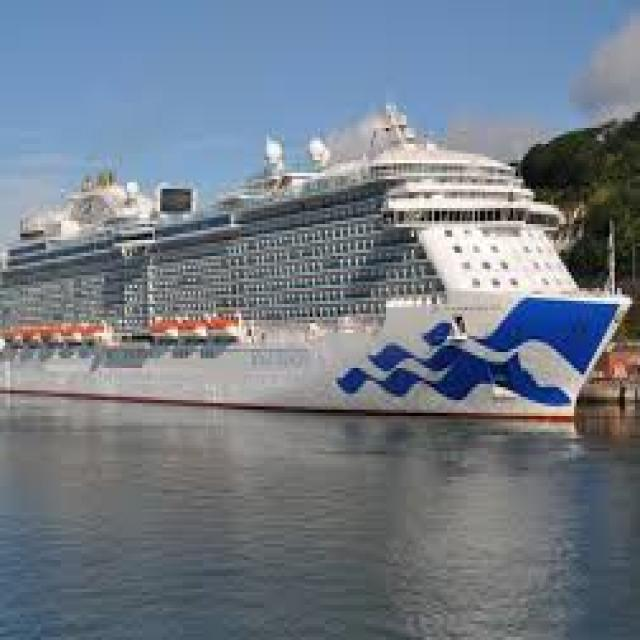passenger ship: (0, 121, 625, 422)
